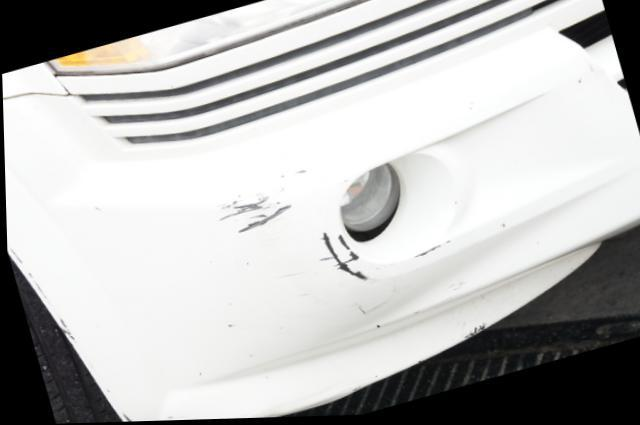scratch: (207, 189, 295, 240), (313, 226, 373, 293)
